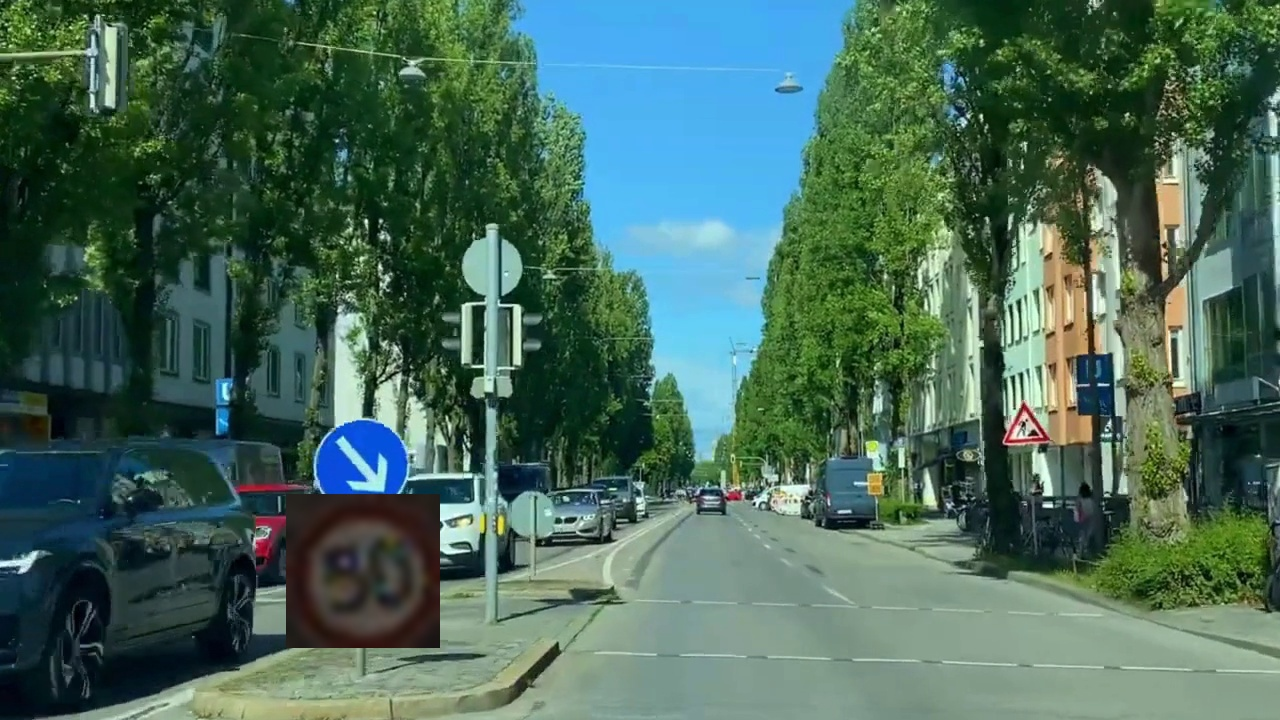Speed 50: (286, 494, 440, 648)
